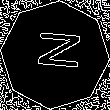N_W: (28, 33, 82, 77)
